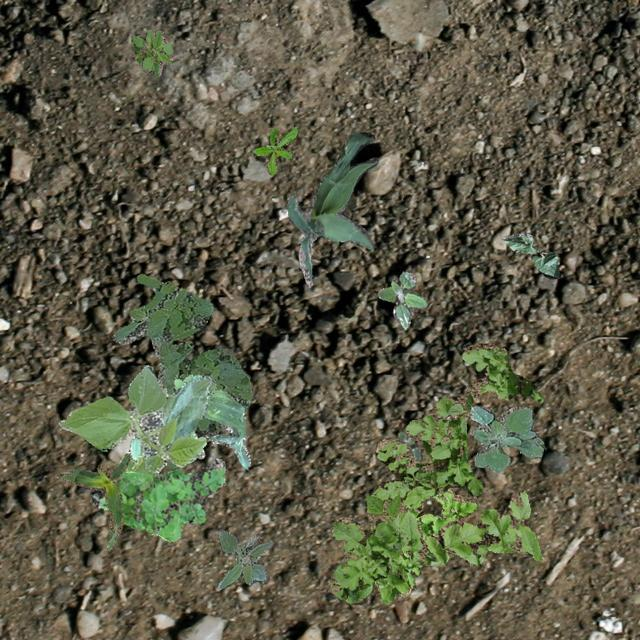crop: (58, 364, 210, 476), (286, 130, 378, 286), (128, 387, 250, 468), (54, 452, 128, 550), (500, 232, 560, 278)
weed: (328, 342, 542, 598), (112, 272, 250, 468), (343, 490, 541, 602), (90, 458, 224, 542), (398, 486, 478, 596), (468, 404, 542, 472), (216, 528, 272, 588), (376, 270, 426, 328), (252, 125, 296, 173), (130, 28, 174, 76), (173, 374, 214, 404), (398, 430, 422, 460)
